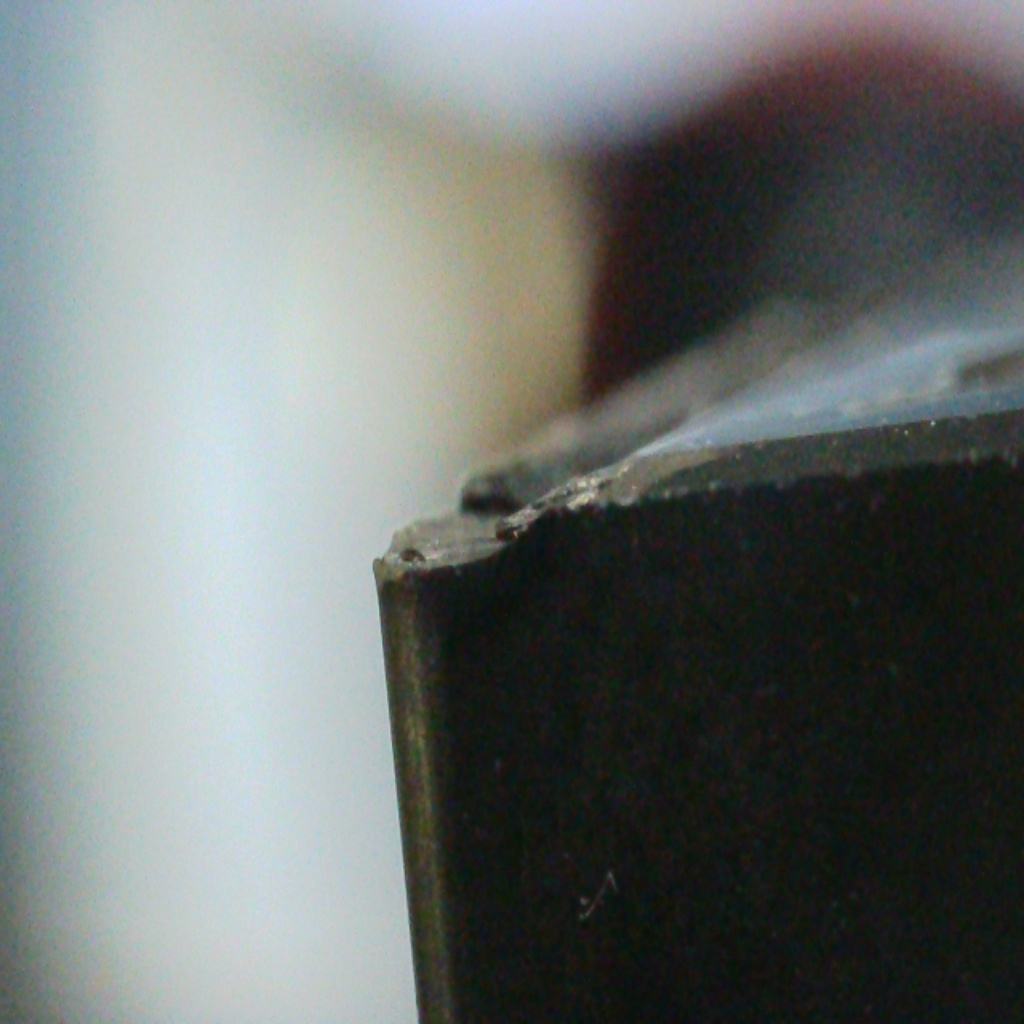flank_wear: (369, 554, 422, 595)
